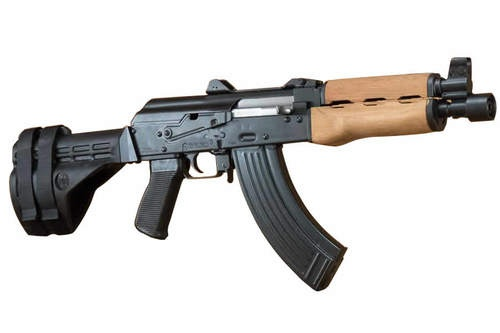ak47: (10, 57, 495, 289)
